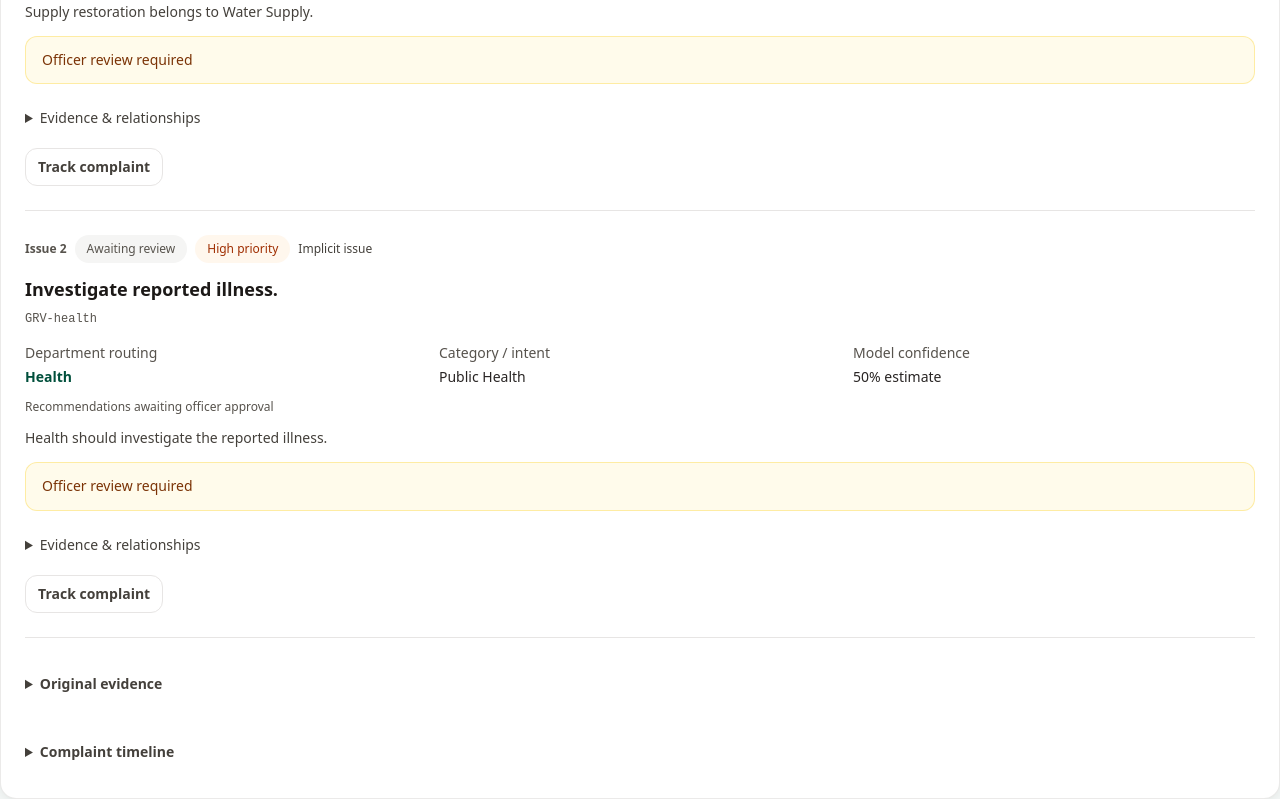
Scenario: tracks a child from the parent and navigates back to all linked issues
The image size is (1280, 799).
(page scrolled)
Click the button "Track complaint" below "GRV-health". click: click(94, 594)
box: [25,575,163,613]
(page scrolled)
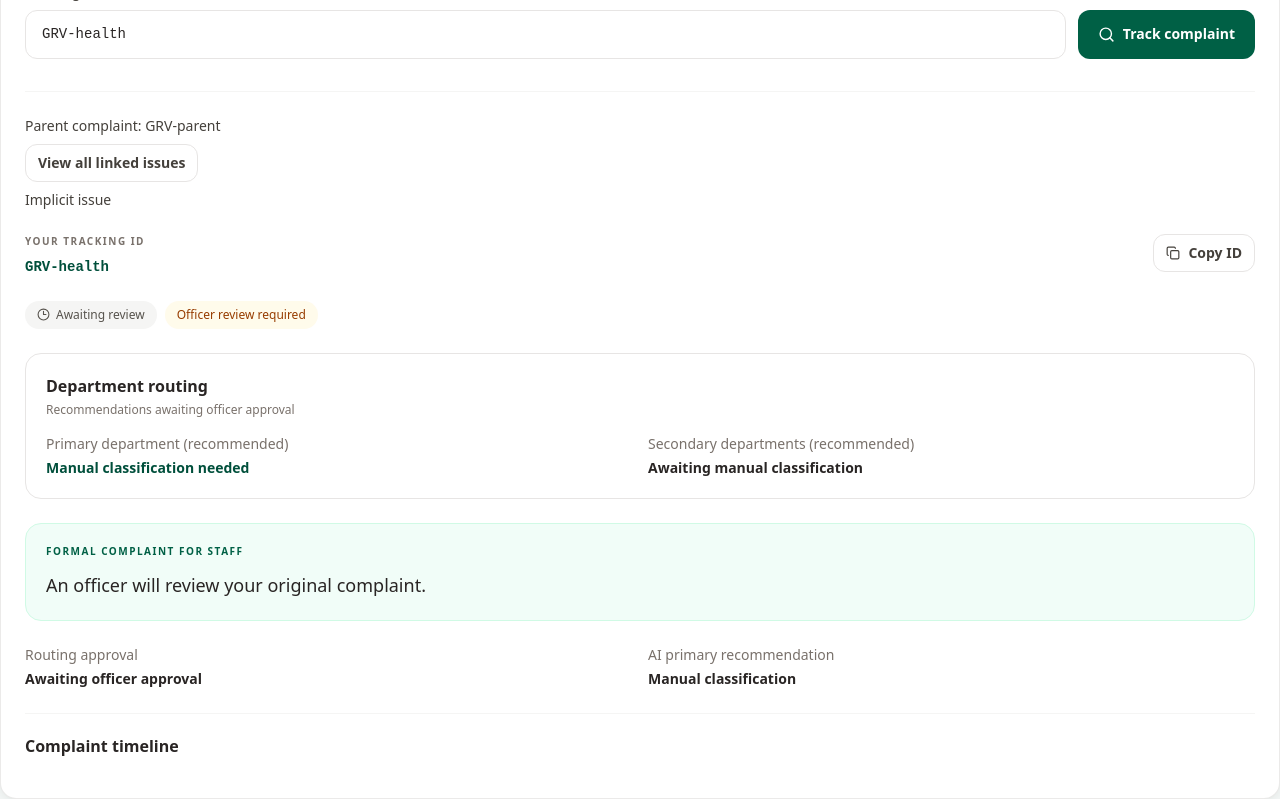
Click the button "View all linked issues". click: click(112, 163)
box: [25,144,198,182]
(page scrolled)
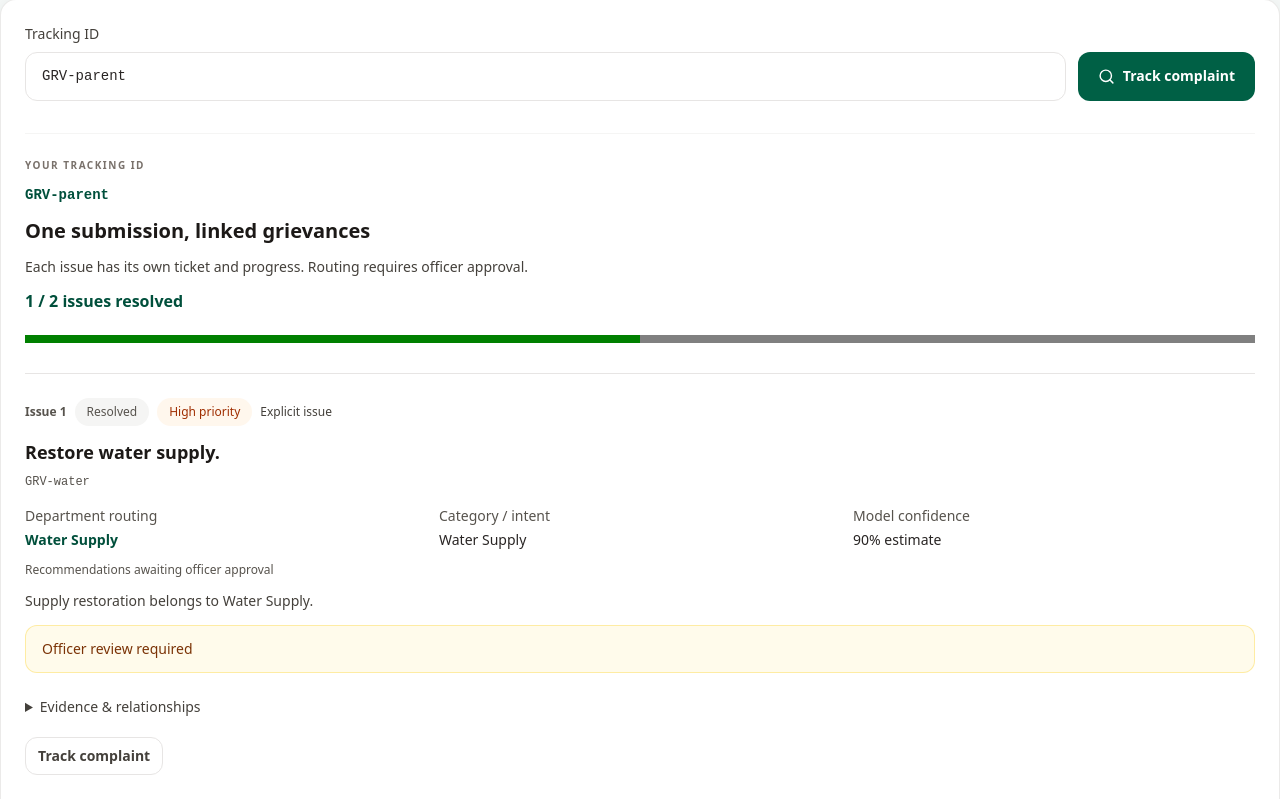
Now the text "1 / 2 issues resolved" is shown, box [25,290,183,312]
